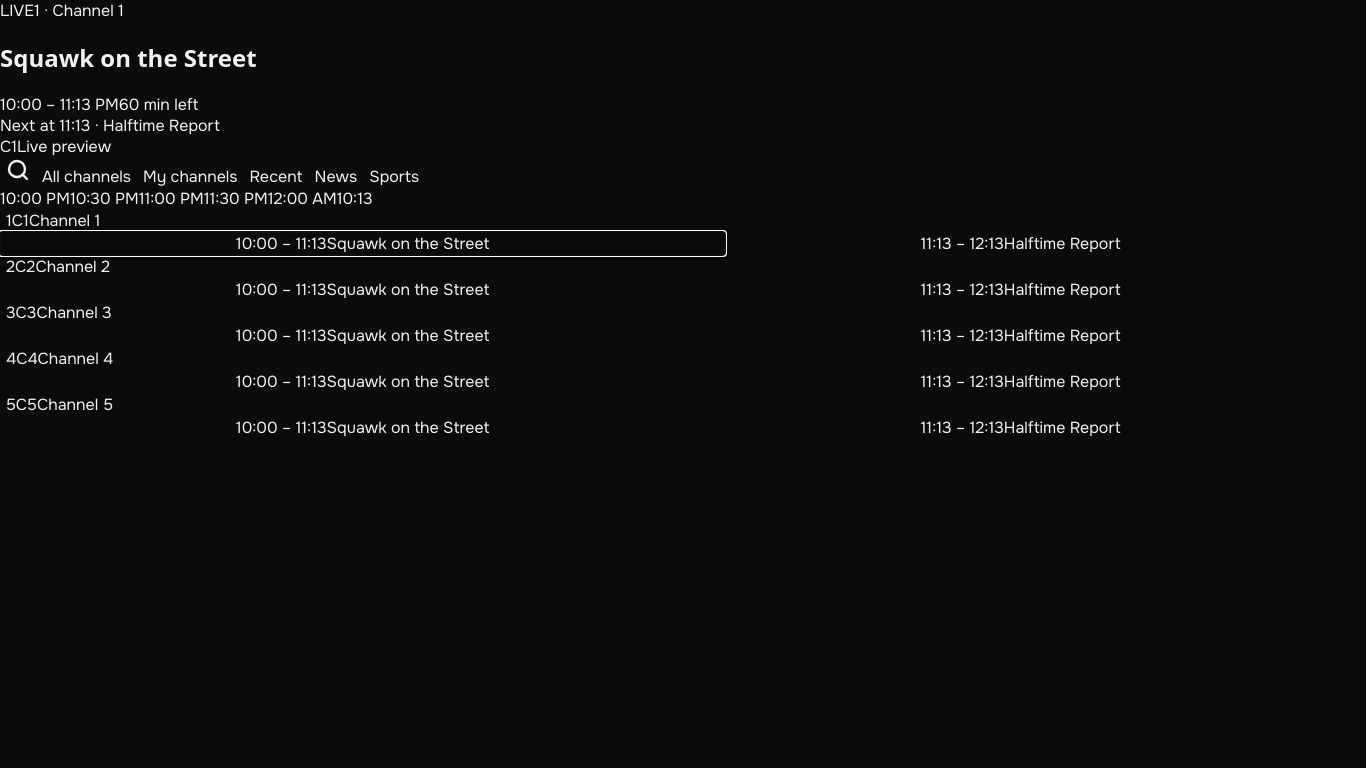
Test: Guide › TV: holding a programme opens the details panel; BACK closes it and restores focus
Right-click the button with aria-label "Channel 1: Squawk on the Street" at (363,243), box [0,232,725,255]
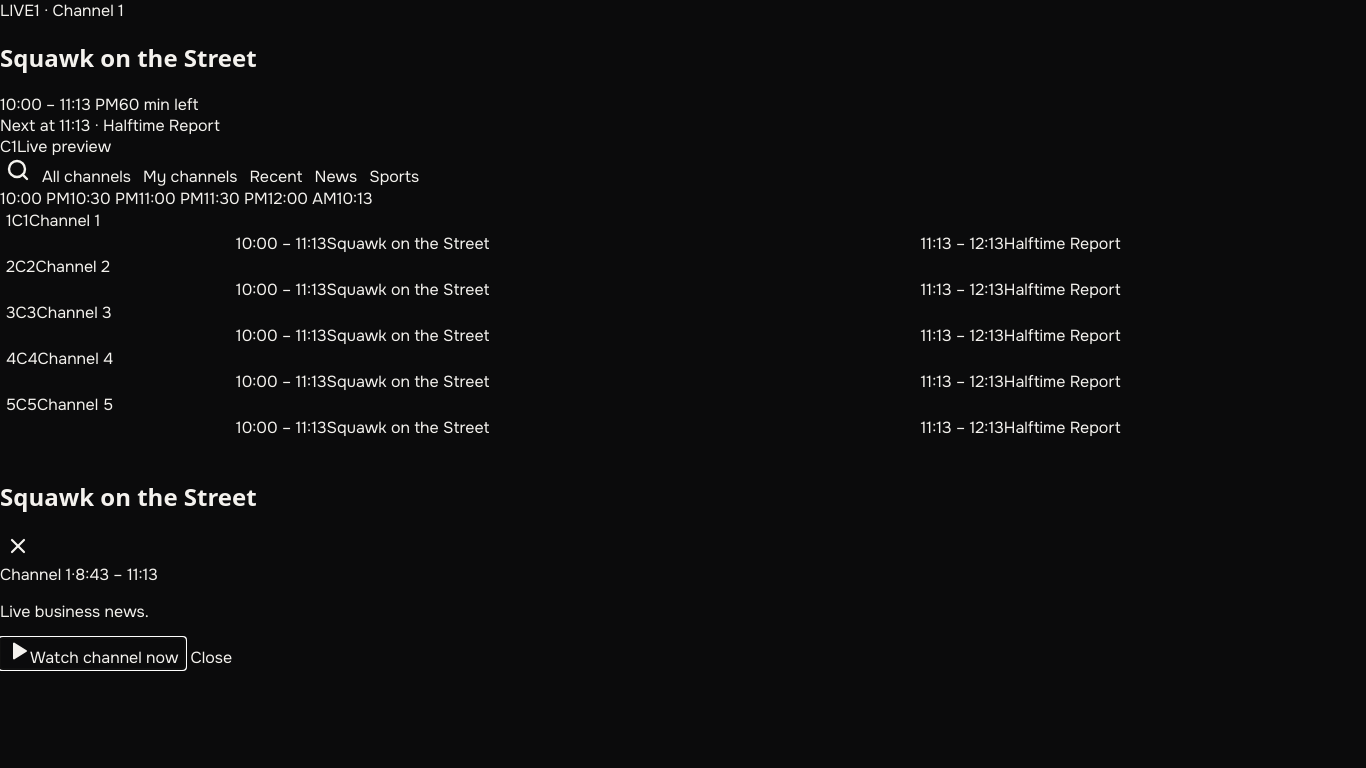
Press Escape in the button "Watch channel now", box [0,638,185,669]
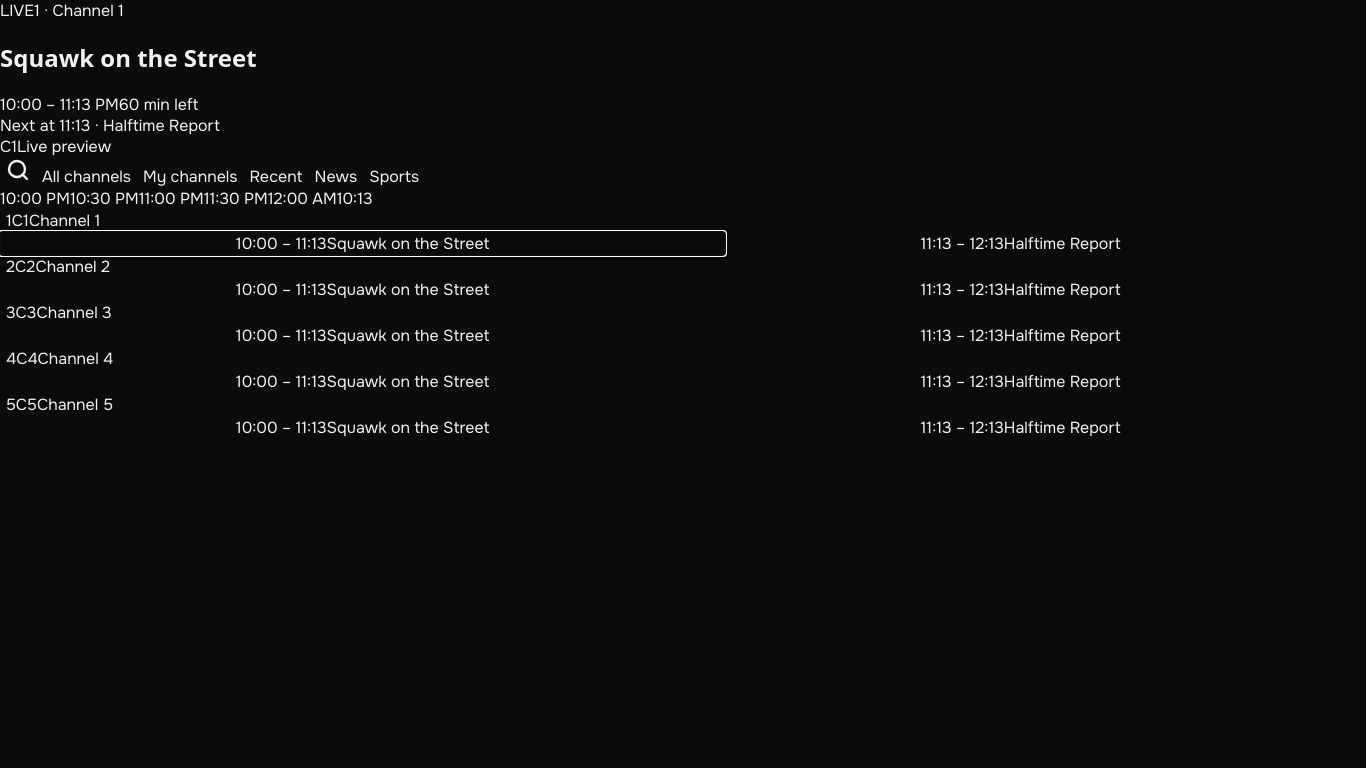
Check: the dialog is gone
